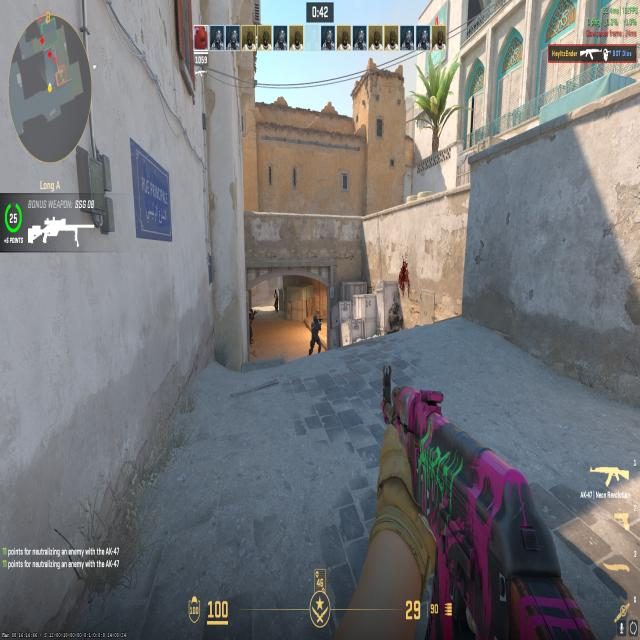ct: (306, 310, 324, 356), (247, 303, 255, 344)
t: (272, 287, 278, 312)
